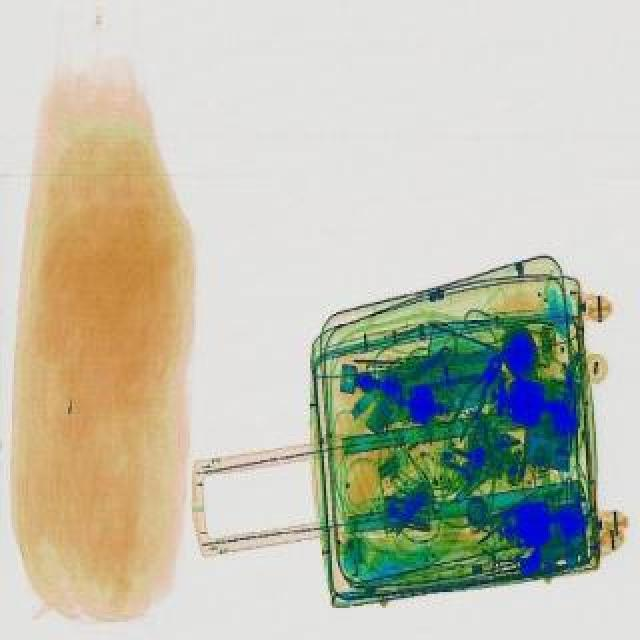wrench: (440, 348, 512, 438), (472, 486, 544, 538)
